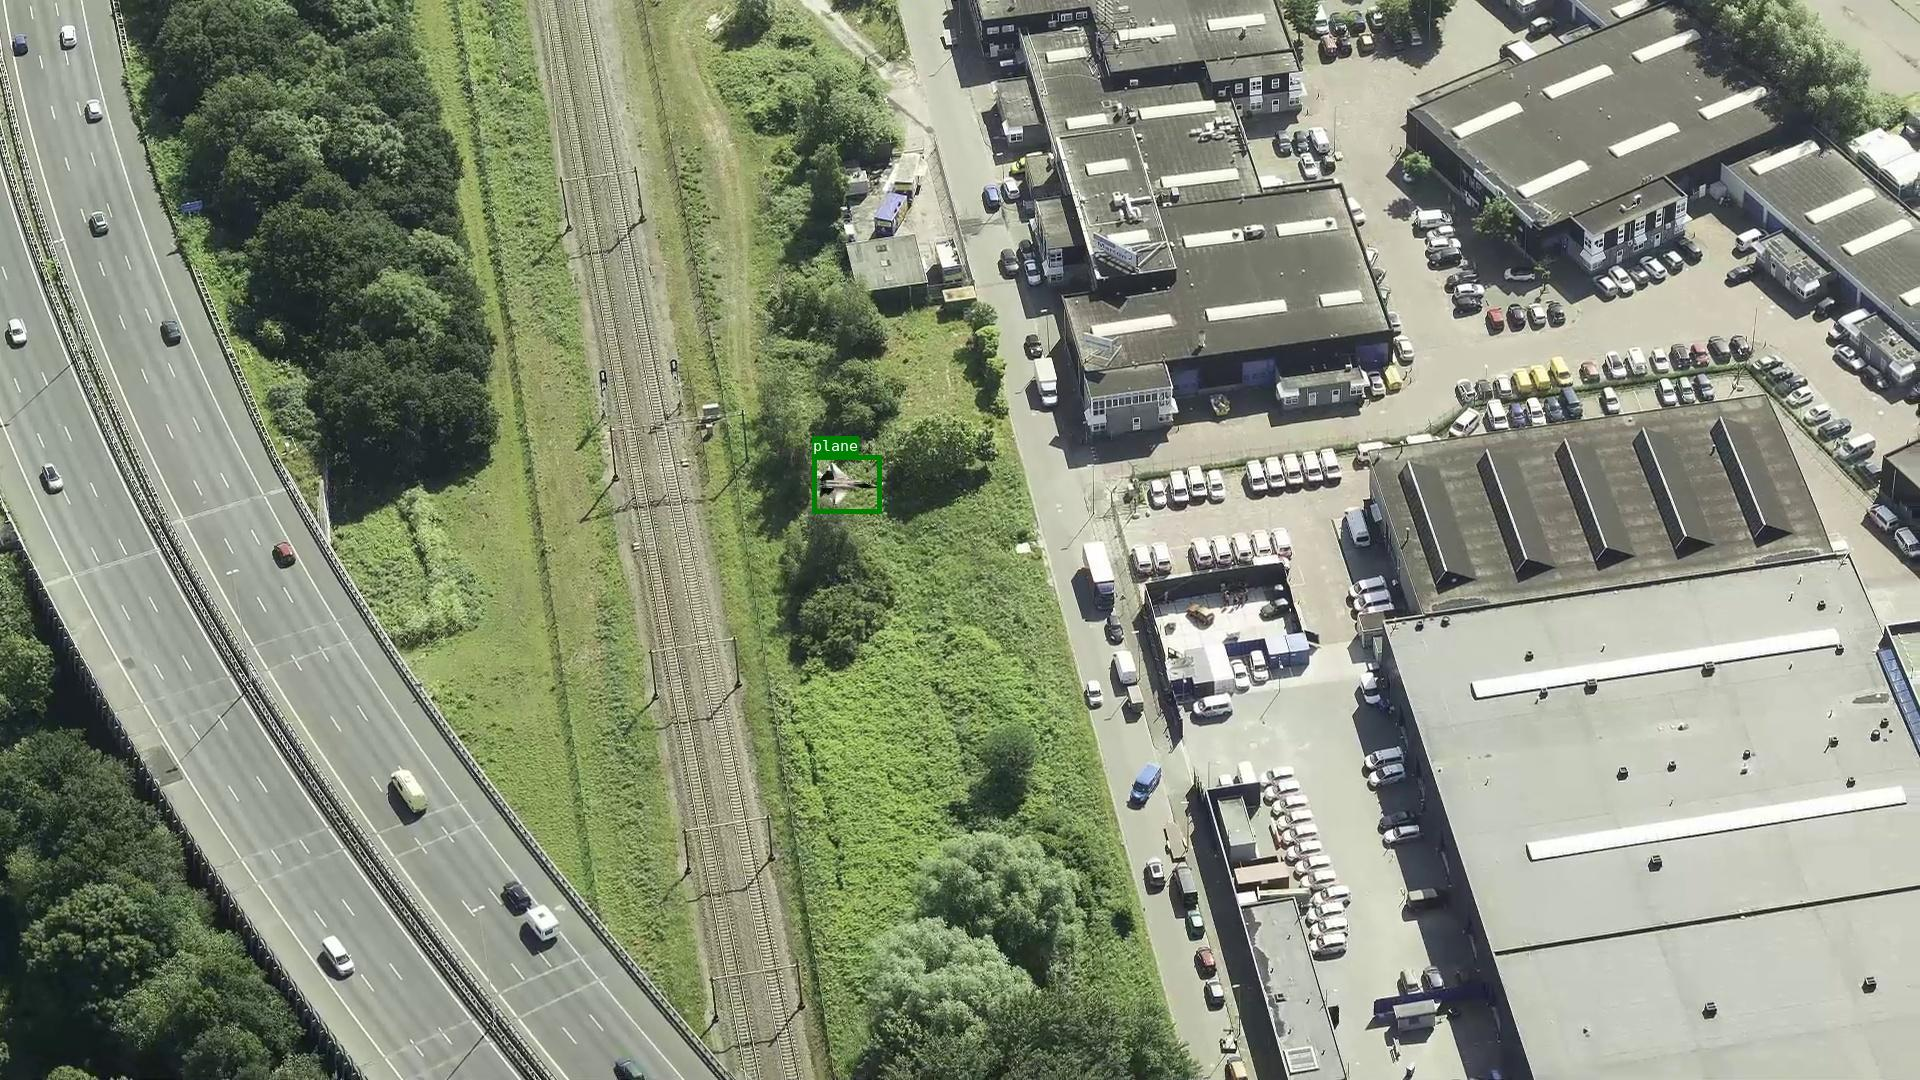plane: (812, 455, 881, 513)
